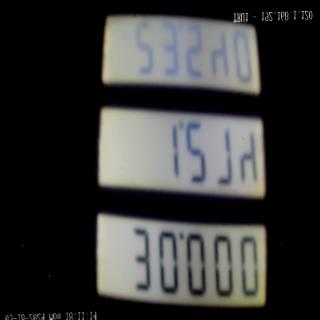screen: (76, 0, 277, 320)
